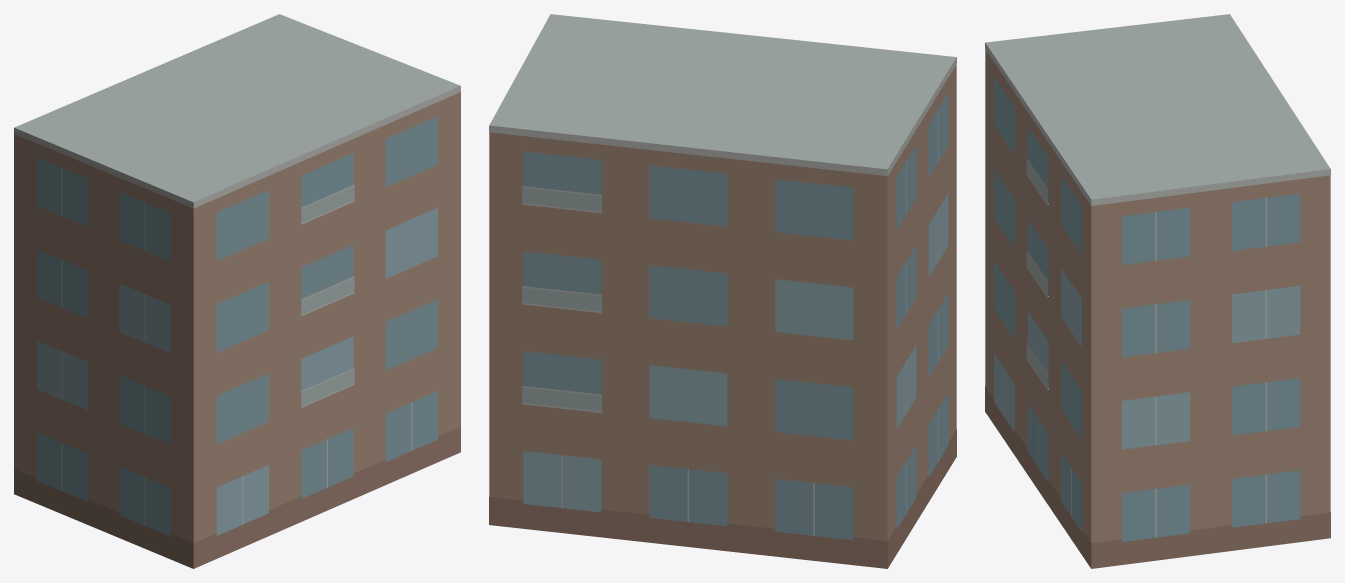
The model's file is survey-upis-32863172.glb.
The picture shows the model from 3 angles, left to right: view 1: azimuth 30°, elevation 25°; view 2: azimuth 150°, elevation 25°; view 3: azimuth 270°, elevation 25°; orthographic projection. The views are drawn at different scales.
Parts seen in each view (by area): view 1: survey-upis-32863172.tmp; view 2: survey-upis-32863172.tmp; view 3: survey-upis-32863172.tmp.
Part boxes in pixels (left/top/right/bottom): survey-upis-32863172.tmp: left=14, top=14, right=460, bottom=568; survey-upis-32863172.tmp: left=489, top=14, right=956, bottom=568; survey-upis-32863172.tmp: left=985, top=14, right=1330, bottom=568.
Bounding box in the file's own units: 15.55 × 14.4 × 12.23.
